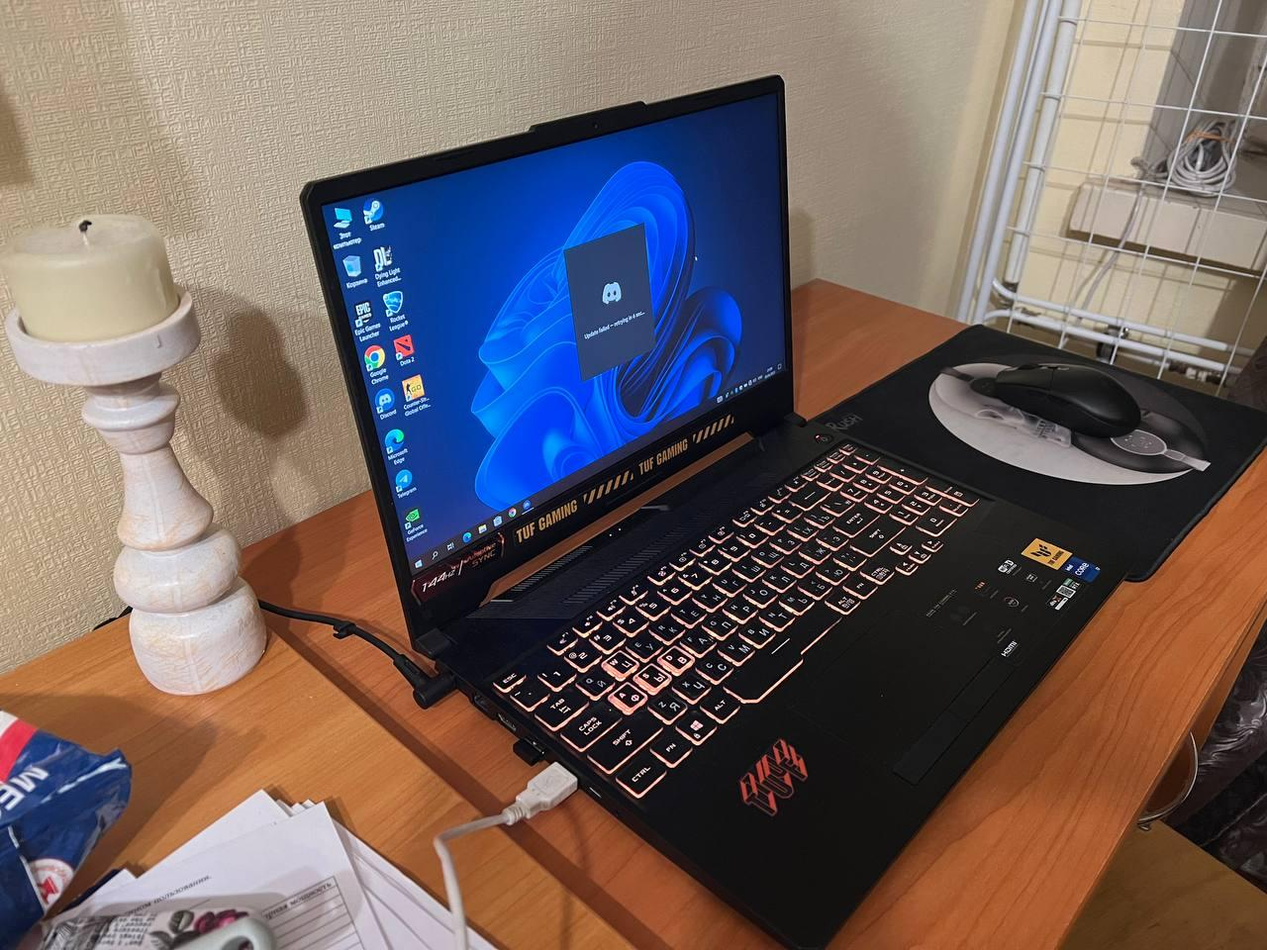monitor: (298, 67, 798, 652)
